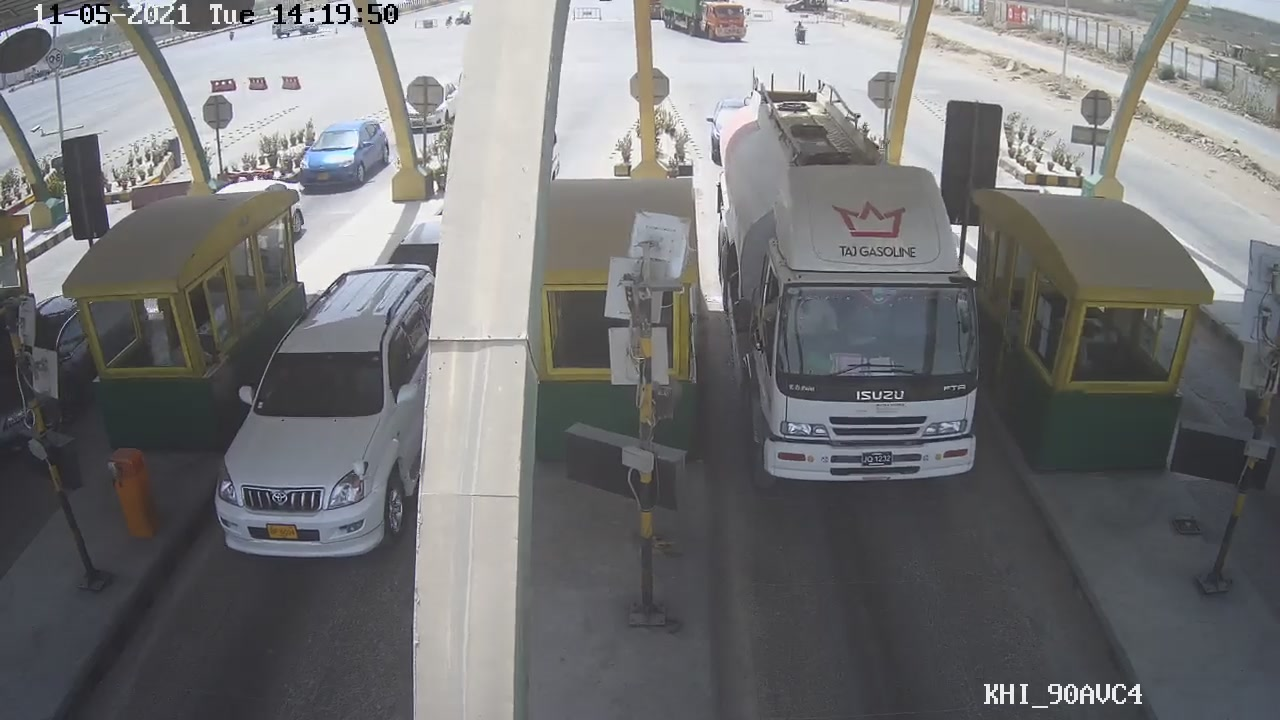F6: (709, 99, 991, 490)
